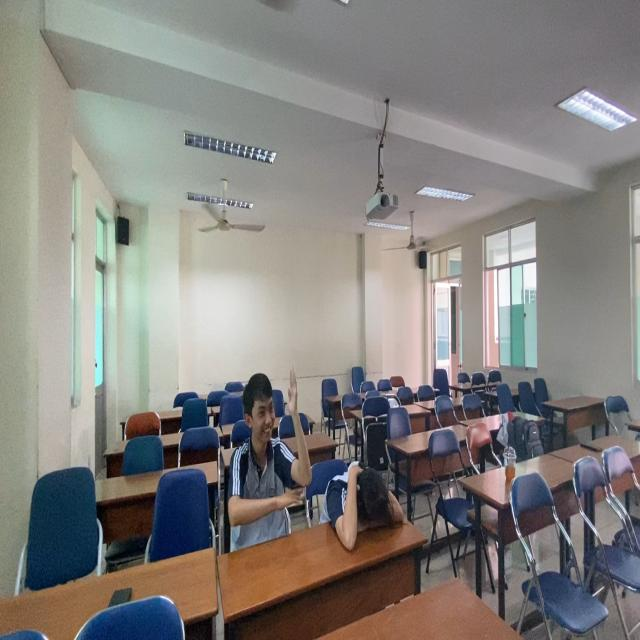raise_hand: (230, 361, 311, 546)
sleep: (313, 453, 415, 564)
